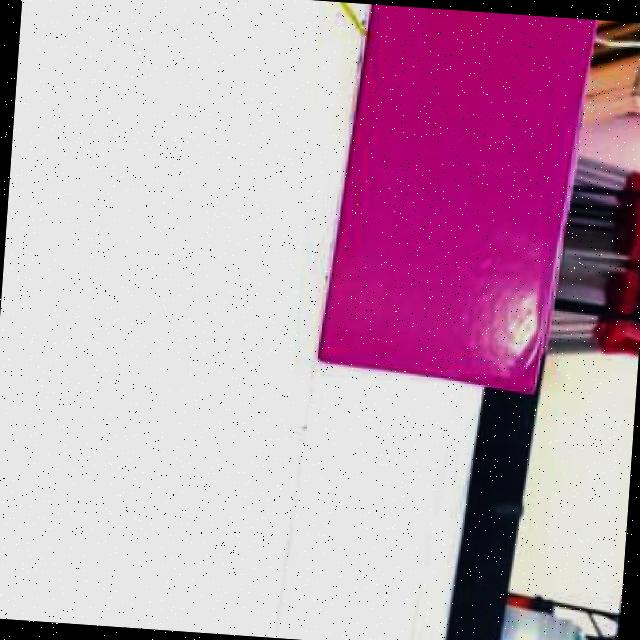xparking: (331, 2, 562, 385)
